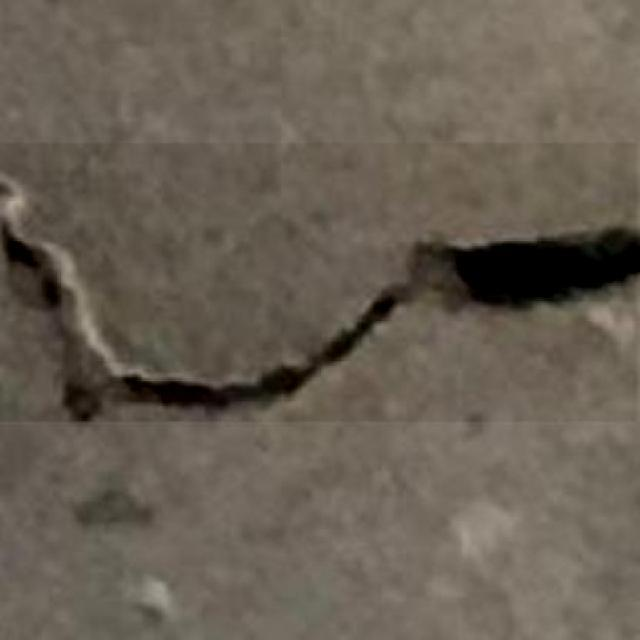crack: (0, 146, 640, 438)
